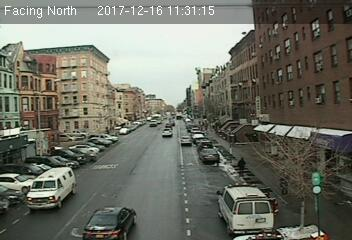car: (83, 206, 139, 240), (200, 148, 220, 163), (180, 135, 192, 146), (161, 128, 173, 138)
pedestrian: (236, 157, 247, 180)
police: (216, 182, 280, 235)
